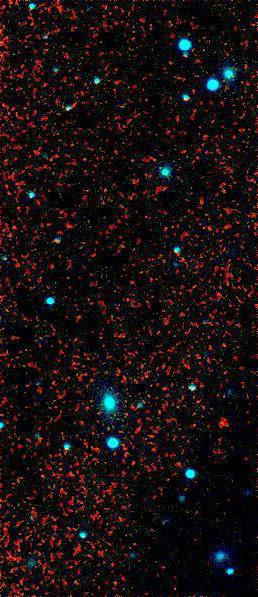star: (208, 406, 238, 436)
